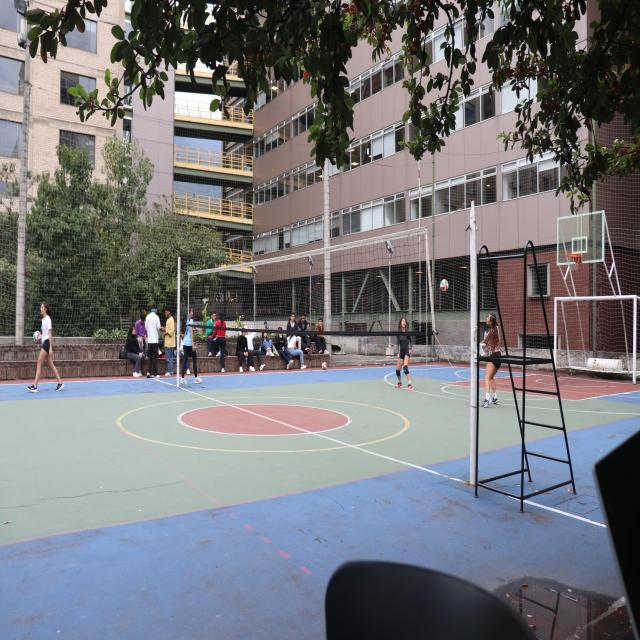volleyball: (440, 279, 449, 292), (33, 331, 42, 342), (322, 362, 327, 369)
